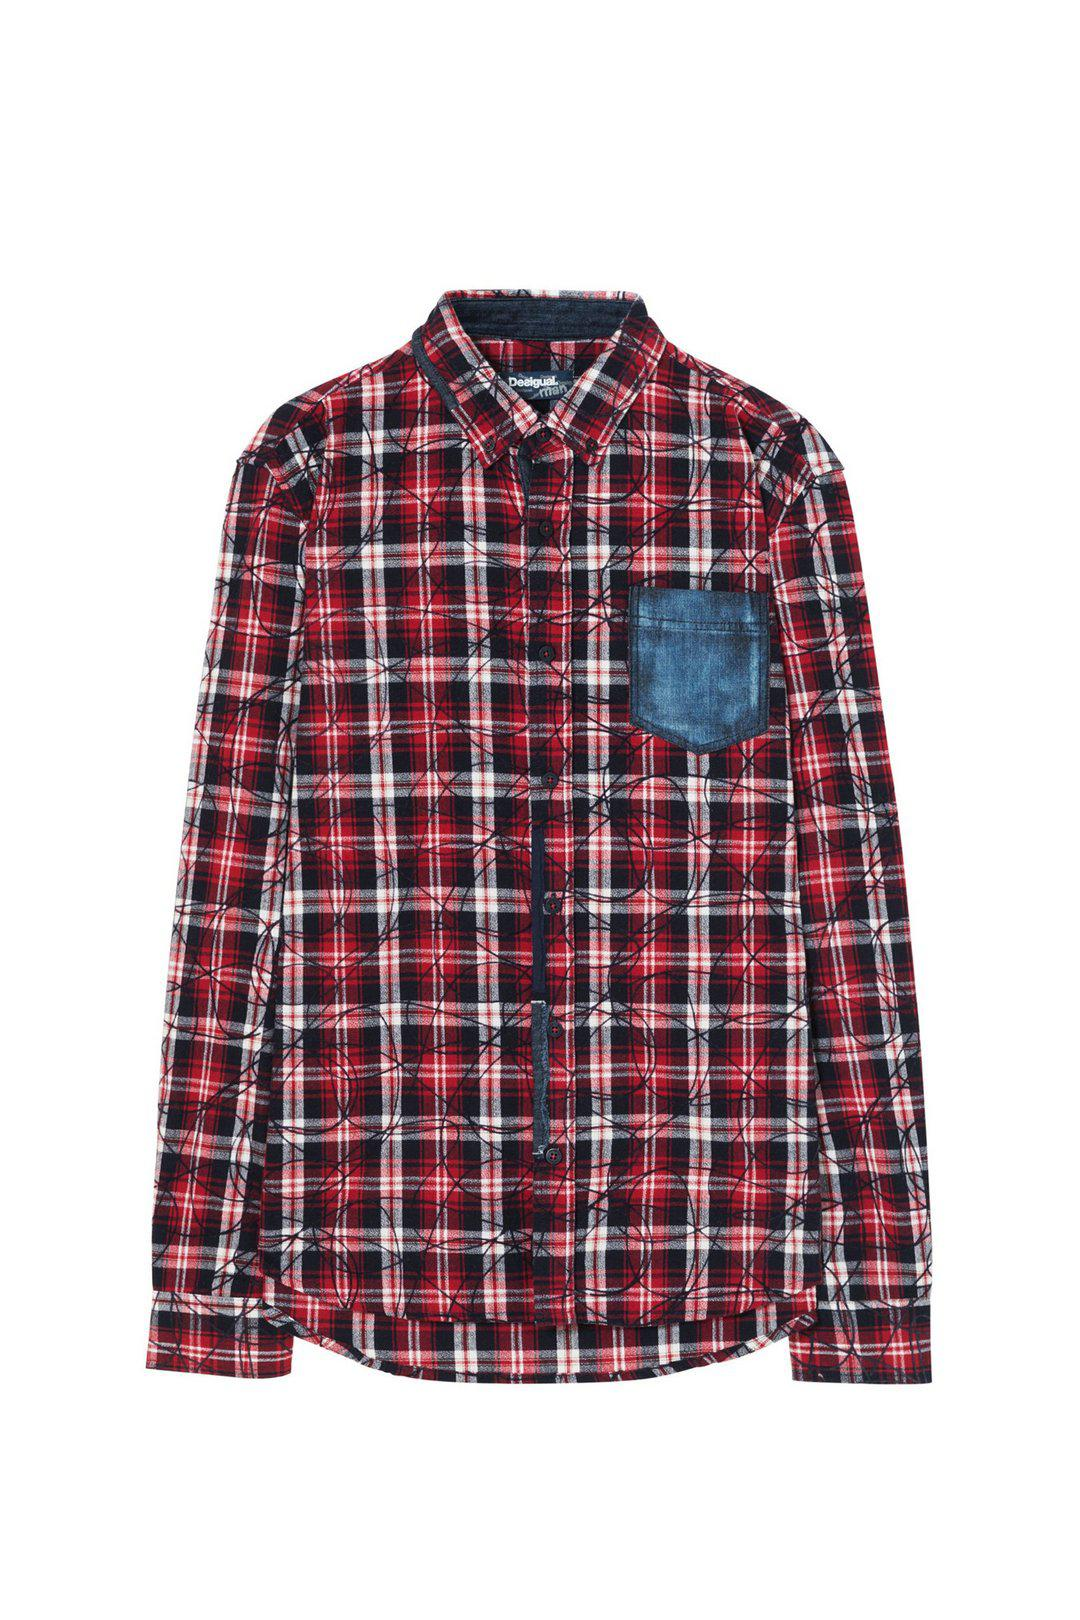teeshirt: (108, 277, 958, 1450)
